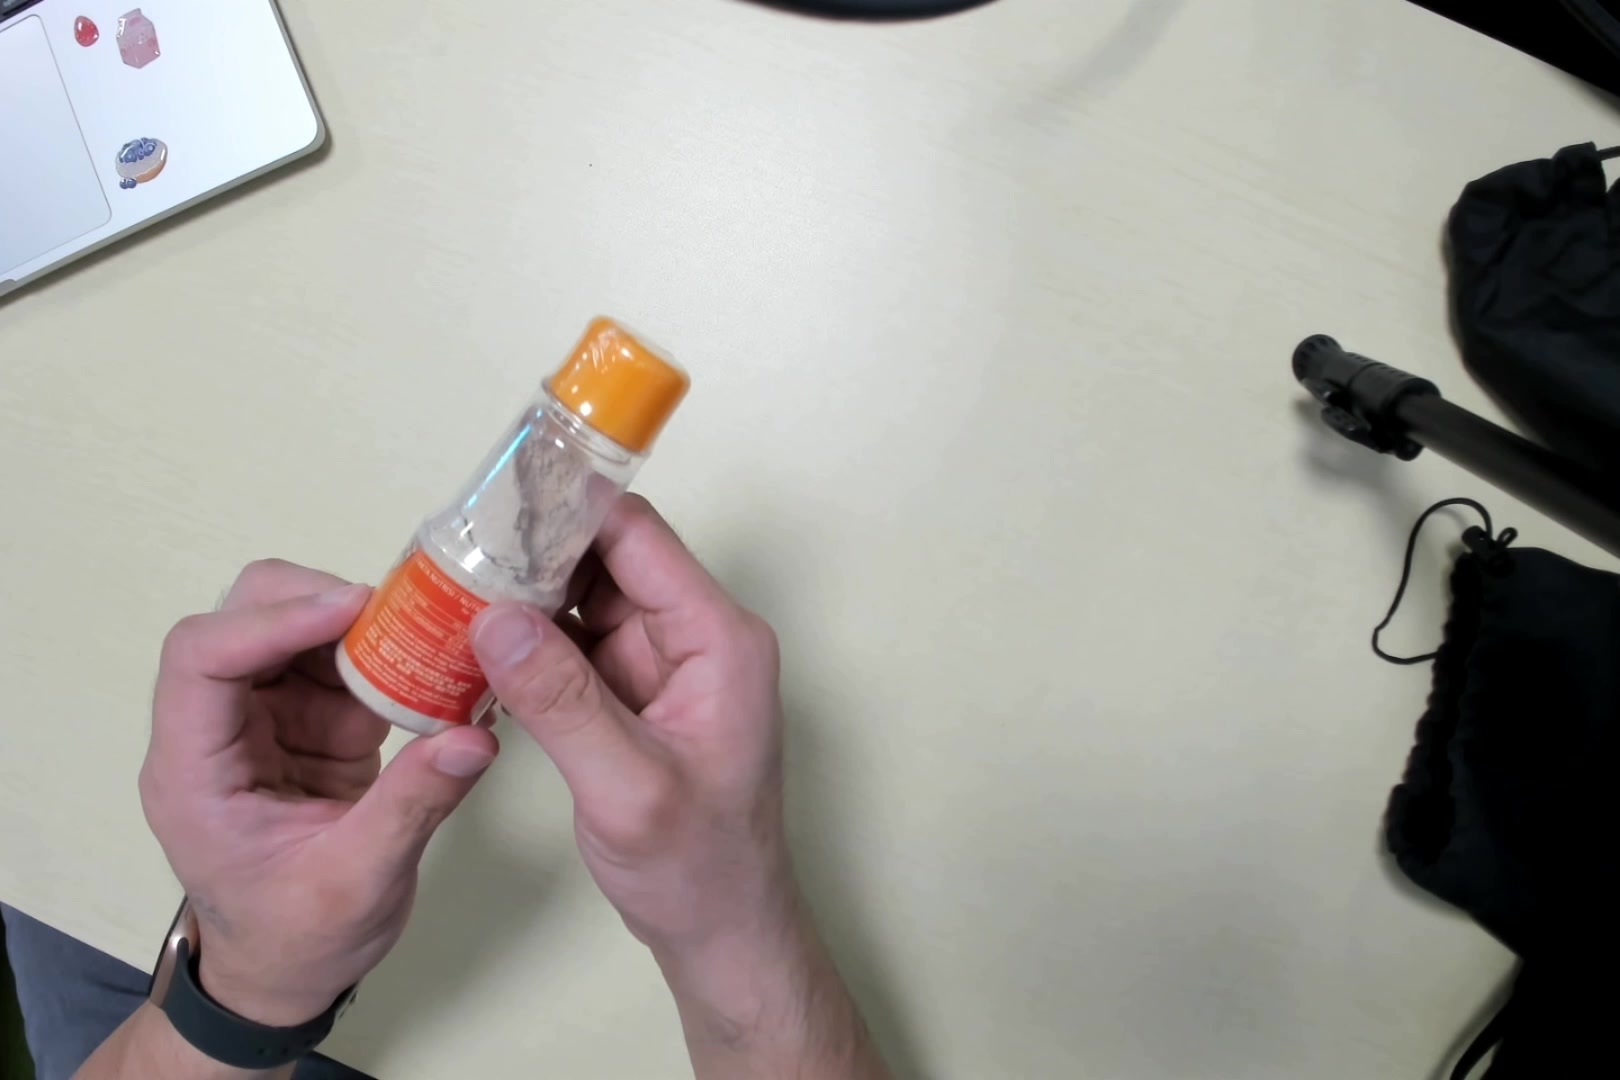HeabsSpicesPepper_0-99g_NonHalal_NonHealthy: (323, 313, 691, 740)
